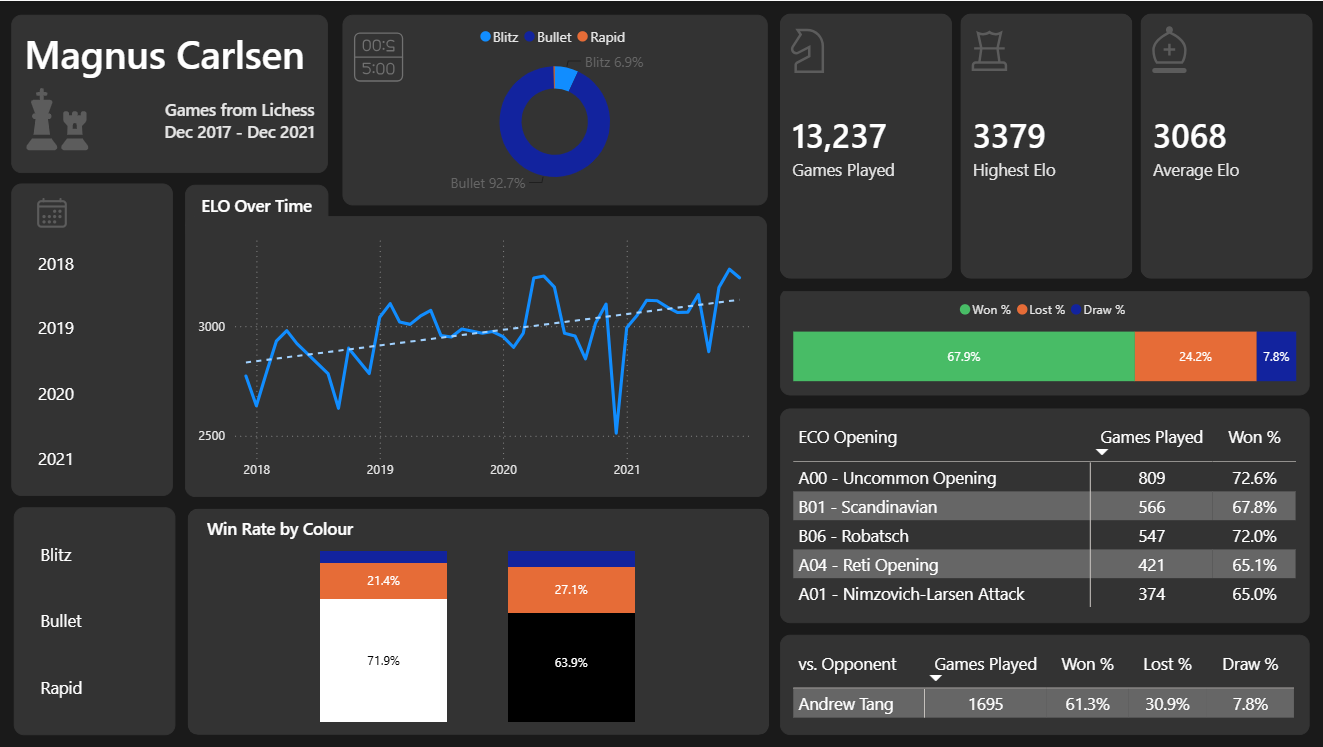

What the dashboard file says about the page in this screenshot:
{"tool":"powerbi","page":{"name":"Page 1","canvas":[1280,720],"ordinal":0},"visuals":[{"type":"pivotTable","fields":{"Values":["_measures.Total Games Played","_measures.Won Percentage","_measures.Lost Percentage","_measures.Draws Percentage"],"Rows":["user_names.real_name"]},"box":[752.9,611.4,511.4,97.1],"z":0},{"type":"cardVisual","fields":{"Data":["_measures.Total Games Played","_measures.Highest Elo","_measures.Average Elo"]},"box":[740.3,0,540.3,280.6],"z":1000,"group":"g2"},{"type":"pivotTable","fields":{"Rows":["eco_codes.opening"],"Values":["_measures.Total Games Played","_measures.Won Percentage"]},"box":[752.9,392.9,511.4,207.1],"z":1000},{"type":"barChart","title":"W/L/D","fields":{"Y":["_measures.Won Percentage","_measures.Lost Percentage","_measures.Draws Percentage"]},"box":[752.9,277.1,511.4,102.9],"z":2000},{"type":"image","box":[752.9,12.9,57.1,70],"z":3000,"group":"g2"},{"type":"group","id":"g1","title":"Group 3","box":[178.6,177.1,561.4,301.4],"z":3000},{"type":"advancedSlicerVisual","fields":{"Values":["magnus_games.time_constraint"]},"box":[12.9,488.6,155.7,220],"z":3000,"group":"g8"},{"type":"textbox","box":[11.4,12.9,305.7,152.9],"z":4000,"group":"g6"},{"type":"group","id":"g2","title":"Group 2","box":[740.3,0,540.3,280.6],"z":5000},{"type":"image","box":[1100,12.9,57.1,70],"z":5000,"group":"g2"},{"type":"group","id":"g3","title":"Group 7","box":[11.4,164.3,155.7,314.3],"z":6000},{"type":"group","id":"g4","title":"Group 9","box":[330,12.9,410,184.3],"z":7000},{"type":"image","box":[925.7,12.9,57.1,70],"z":7000,"group":"g2"},{"type":"image","box":[25.7,72.9,60,81.4],"z":8000,"group":"g6"},{"type":"advancedSlicerVisual","title":" ","fields":{"Values":["magnus_games.year"]},"box":[11.4,176.7,155.7,301.9],"z":8000,"group":"g9"},{"type":"textbox","box":[178.6,177.1,138.6,54.3],"z":8000,"group":"g1"},{"type":"shape","box":[181.4,490,561.4,218.6],"z":8000},{"type":"lineChart","title":"ELO Over Time","fields":{"Y":["_measures.Average Elo"],"Category":["magnus_games.date_played.Variation.Date Hierarchy.Year","magnus_games.date_played.Variation.Date Hierarchy.Month"]},"box":[178.6,207.1,561.4,271.4],"z":8500,"group":"g1"},{"type":"group","id":"g5","title":"Group 10","box":[224.3,488.6,472.9,220],"z":9000},{"type":"textbox","box":[181.4,492.9,178.6,54.3],"z":10000},{"type":"group","id":"g6","title":"Group 11","box":[11.4,12.9,305.7,152.9],"z":11000},{"type":"group","id":"g7","title":"Group 13","box":[11.4,164.3,155.7,314.3],"z":11001,"group":"g3"},{"type":"hundredPercentStackedColumnChart","title":" ","fields":{"Y":["_measures.Won %","_measures.Lost %","_measures.Draw %"],"Category":["magnus_games.magnus_color"]},"box":[417.2,488.6,280,220],"z":11001,"group":"g5"},{"type":"hundredPercentStackedColumnChart","title":" ","fields":{"Y":["_measures.Won %","_measures.Lost %","_measures.Draw %"],"Category":["magnus_games.magnus_color"]},"box":[224.3,488.6,280,220],"z":11501,"group":"g5"},{"type":"donutChart","fields":{"Y":["_measures.Games Played"],"Series":["magnus_games.time_constraint"]},"box":[330,12.9,410,184.3],"z":12000,"group":"g4"},{"type":"image","box":[334.3,14.3,60,79.6],"z":13000,"group":"g4"},{"type":"group","id":"g8","title":"Group 1","box":[12.9,488.6,155.7,220],"z":13002},{"type":"group","id":"g9","title":"Group 4","box":[11.4,164.3,155.7,314.3],"z":13003,"group":"g7"},{"type":"image","box":[34.3,164.3,32.9,81.2],"z":17001,"group":"g9"}]}

Visuals, with their boxes in screenshot pixels (x1, y1, x2, y2), scaled from the page's 1280x720 canvas onto the 1323x747 screenshot:
pivotTable - _measures.Total Games Played x _measures.Won Percentage: 778:634:1307:735
cardVisual - _measures.Total Games Played x _measures.Highest Elo: 765:0:1322:291
pivotTable - eco_codes.opening x _measures.Total Games Played: 778:408:1307:622
"W/L/D" barChart: 778:287:1307:394
image: 778:13:837:86
"Group 3" group: 185:184:765:496
advancedSlicerVisual - magnus_games.time_constraint: 13:507:174:735
textbox: 12:13:328:172
"Group 2" group: 765:0:1322:291
image: 1137:13:1196:86
"Group 7" group: 12:170:173:497
"Group 9" group: 341:13:765:205
image: 957:13:1016:86
image: 27:76:89:160
" " advancedSlicerVisual: 12:183:173:497
textbox: 185:184:328:240
shape: 187:508:768:735
"ELO Over Time" lineChart: 185:215:765:496
"Group 10" group: 232:507:721:735
textbox: 187:511:372:568
"Group 11" group: 12:13:328:172
"Group 13" group: 12:170:173:497
" " hundredPercentStackedColumnChart: 431:507:721:735
" " hundredPercentStackedColumnChart: 232:507:521:735
donutChart - _measures.Games Played x magnus_games.time_constraint: 341:13:765:205
image: 346:15:408:97
"Group 1" group: 13:507:174:735
"Group 4" group: 12:170:173:497
image: 35:170:69:255
